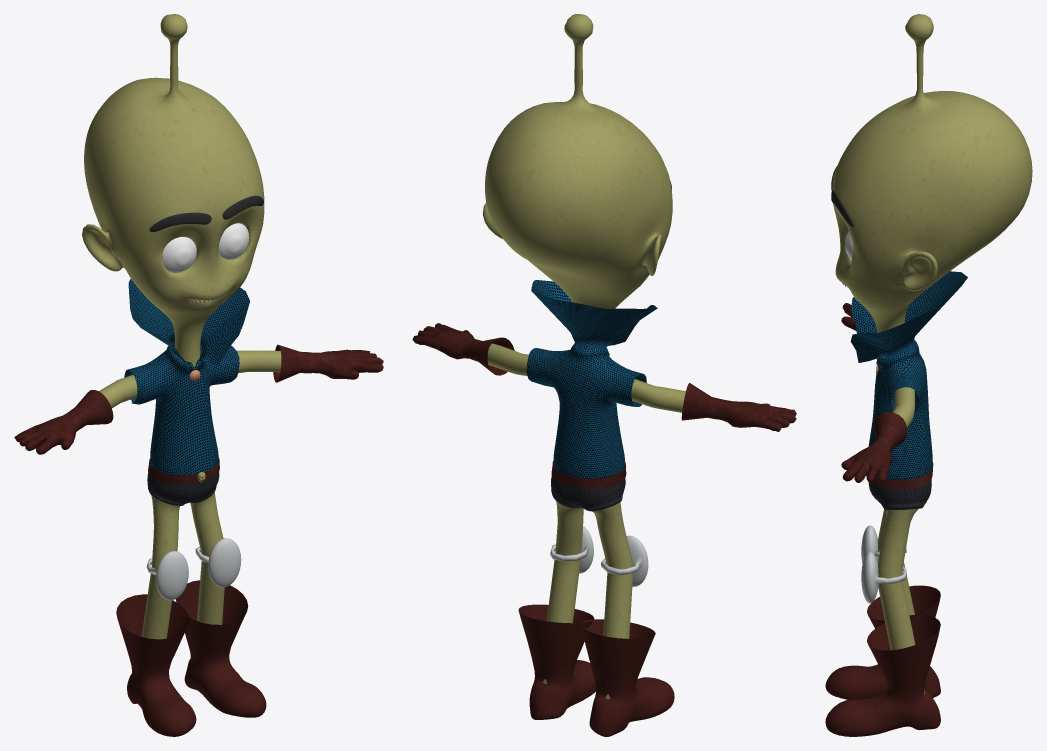
Rendered from Alien.fbx.
3 views of the same model, side by side, from view 1: azimuth 30°, elevation 25°; view 2: azimuth 150°, elevation 25°; view 3: azimuth 270°, elevation 25° (orthographic). The views are drawn at different scales.
Parts seen in each view (by area): view 1: Alien, eyeball; view 2: Alien; view 3: Alien.
Part boxes in pixels (left/top/right/bottom): Alien: left=14, top=14, right=383, bottom=736; eyeball: left=162, top=223, right=249, bottom=272; Alien: left=412, top=14, right=796, bottom=736; Alien: left=825, top=14, right=1032, bottom=736.
Bounding box in the file's own units: 124 × 226 × 60.97.
